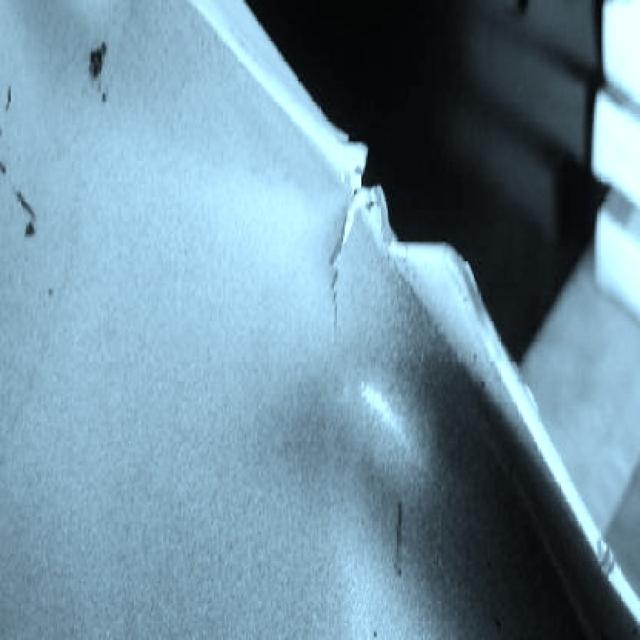crack: (331, 200, 357, 340)
